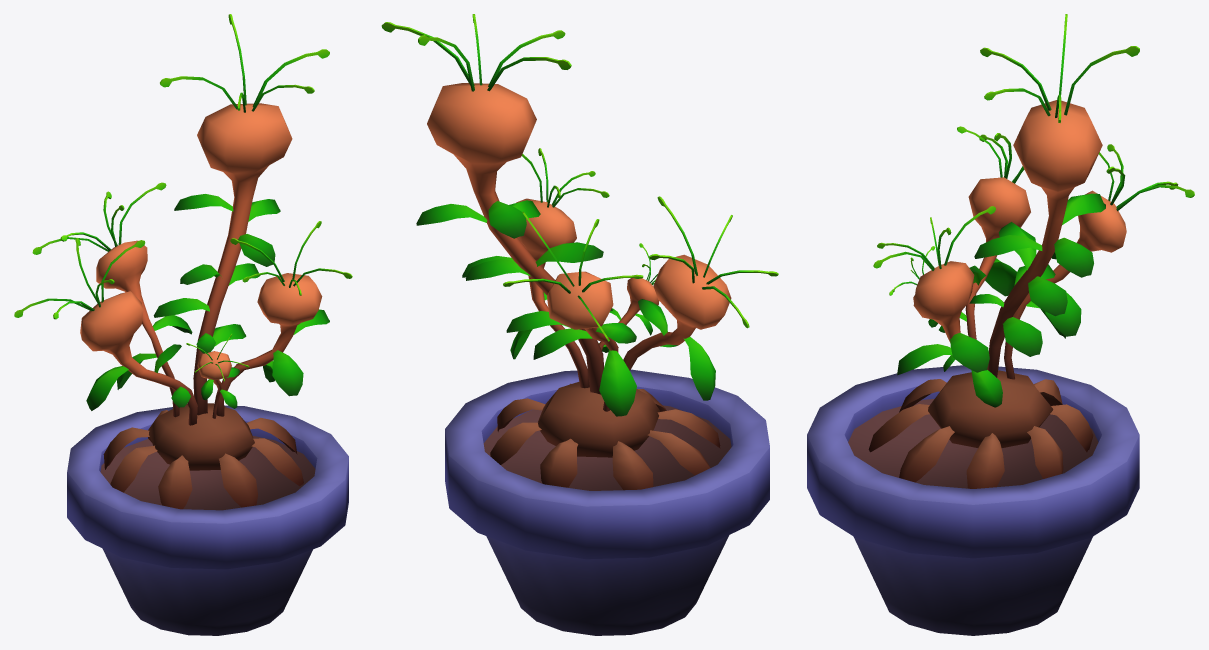
Rendered from wp_wPot_27.fbx.
The picture shows the model from 3 angles, left to right: view 1: azimuth 30°, elevation 25°; view 2: azimuth 150°, elevation 25°; view 3: azimuth 270°, elevation 25°; orthographic projection. The views are drawn at different scales.
Parts seen in each view (by area): view 1: w_pl27; view 2: w_pl27; view 3: w_pl27.
Part boxes in pixels (bbox=[...]): w_pl27: bbox=[14, 14, 352, 635]; w_pl27: bbox=[381, 14, 778, 635]; w_pl27: bbox=[807, 14, 1194, 635].
Size of the model in its own units: 135 by 210 by 122.
